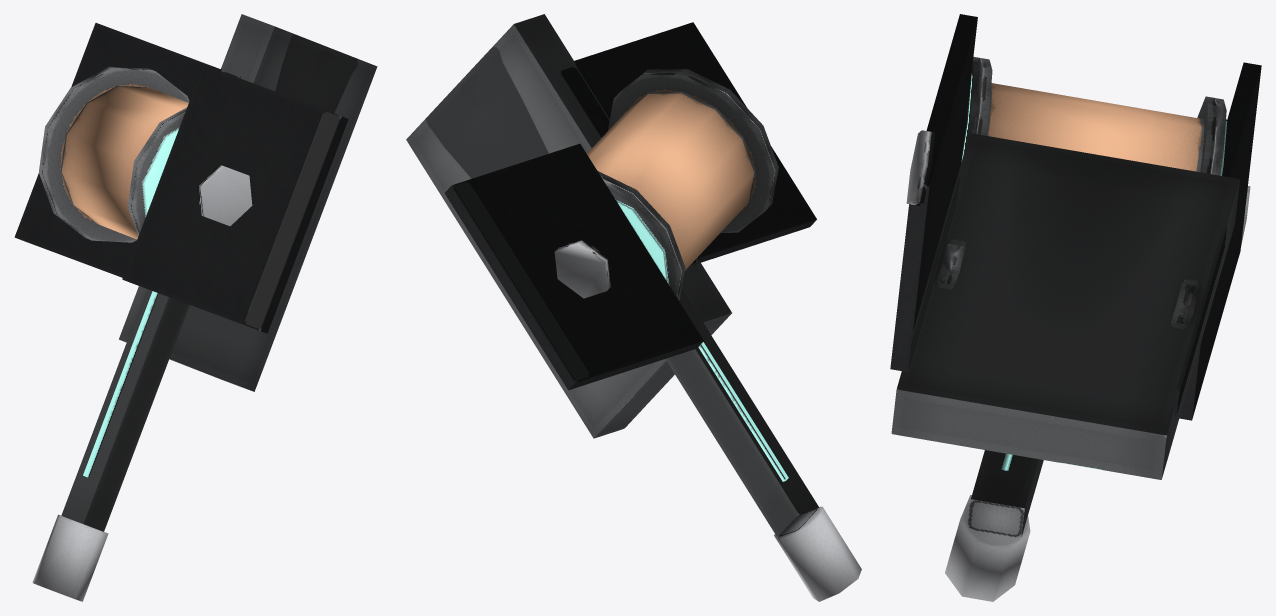
File: mw7_monofilament_whip.gltf
The picture shows the model from 3 angles, left to right: view 1: azimuth 30°, elevation 25°; view 2: azimuth 150°, elevation 25°; view 3: azimuth 270°, elevation 25°; orthographic projection. The views are drawn at different scales.
Visible parts, largest first — view 1: B_forearm_R__mw7_monofilament_whip; view 2: B_forearm_R__mw7_monofilament_whip; view 3: B_forearm_R__mw7_monofilament_whip.
Boxes of the visible parts, box(x1,y1,x2,y2) form: B_forearm_R__mw7_monofilament_whip: box(14, 14, 377, 601); B_forearm_R__mw7_monofilament_whip: box(406, 14, 861, 601); B_forearm_R__mw7_monofilament_whip: box(890, 14, 1261, 601).
Bounding box in the file's own units: 0.1113 × 0.1612 × 0.081.
Materials: 1 (1 with a texture image).
